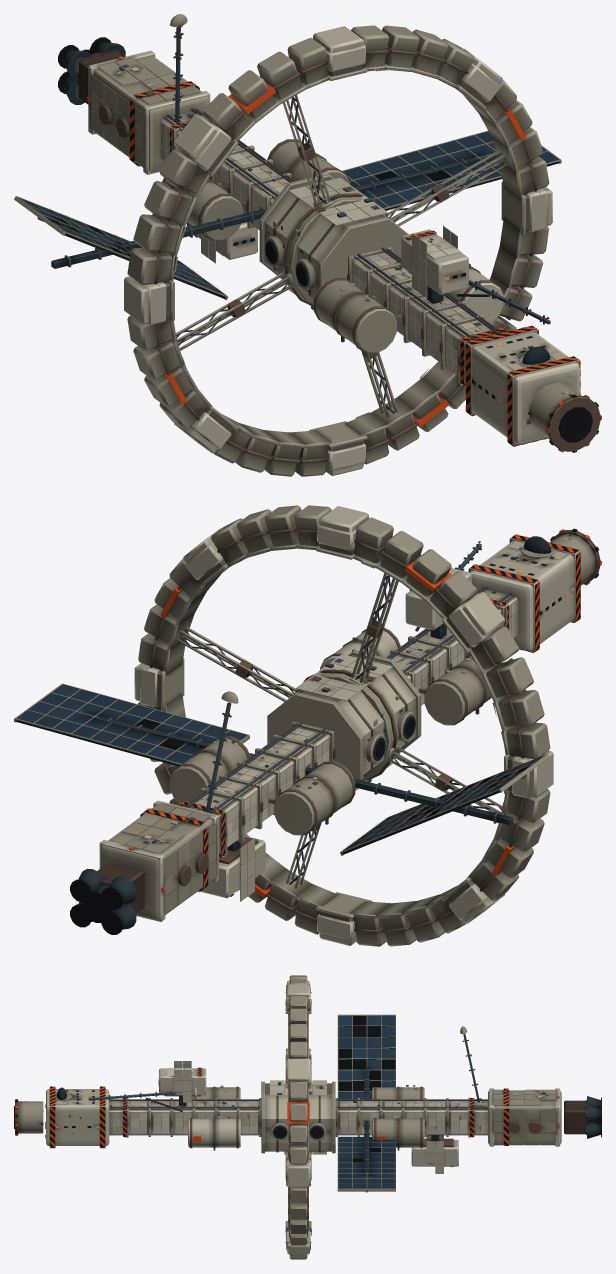
Rendered from station.glb.
The picture shows the model from 3 angles, top to bottom: view 1: azimuth 30°, elevation 25°; view 2: azimuth 150°, elevation 25°; view 3: azimuth 270°, elevation 25°; orthographic projection. The views are drawn at different scales.
Parts seen in each view (by area): view 1: ring, engine, hub, nose, spine_fore, solar_r, spine_aft, pod_1, module_up, collar, solar_l, solar_boom (+6 smaller); view 2: ring, engine, hub, solar_r, spine_aft, nose, pod_3, spine_fore, solar_l, pod_1, pod_2, module_dn (+5 smaller); view 3: ring, engine, spine_aft, spine_fore, solar_l, hub, nose, solar_r, pod_0, module_up, pod_2, module_dn (+5 smaller).
Part boxes in pixels (left/top/right/bottom): ring: left=124, top=25, right=552, bottom=476; engine: left=58, top=37, right=210, bottom=174; hub: left=259, top=173, right=408, bottom=309; nose: left=465, top=325, right=580, bottom=446; spine_fore: left=347, top=246, right=506, bottom=385; solar_r: left=342, top=130, right=561, bottom=210; spine_aft: left=160, top=108, right=295, bottom=230; pod_1: left=313, top=278, right=396, bottom=353; module_up: left=401, top=225, right=468, bottom=303; collar: left=528, top=382, right=601, bottom=452; solar_l: left=14, top=196, right=228, bottom=300; solar_boom: left=51, top=151, right=497, bottom=268; ring: left=134, top=505, right=553, bottom=946; engine: left=70, top=800, right=218, bottom=934; hub: left=267, top=650, right=421, bottom=790; solar_r: left=14, top=683, right=249, bottom=766; spine_aft: left=179, top=721, right=335, bottom=858; nose: left=468, top=534, right=580, bottom=652; pod_3: left=274, top=761, right=355, bottom=835; spine_fore: left=386, top=586, right=517, bottom=705; solar_l: left=340, top=754, right=549, bottom=855; pod_1: left=424, top=655, right=491, bottom=725; pod_2: left=169, top=736, right=250, bottom=804; module_dn: left=201, top=836, right=265, bottom=901; ring: left=285, top=975, right=311, bottom=1259; engine: left=488, top=1088, right=601, bottom=1146; spine_aft: left=335, top=1097, right=487, bottom=1137; spine_fore: left=109, top=1098, right=261, bottom=1137; solar_l: left=337, top=1014, right=395, bottom=1099; hub: left=261, top=1080, right=335, bottom=1154; nose: left=45, top=1086, right=109, bottom=1148; solar_r: left=337, top=1136, right=395, bottom=1192; pod_0: left=188, top=1116, right=240, bottom=1150; module_up: left=158, top=1061, right=206, bottom=1106; pod_2: left=372, top=1116, right=424, bottom=1150; module_dn: left=411, top=1135, right=458, bottom=1173.
Bounding box in the file's own units: 131 × 108 × 224.
